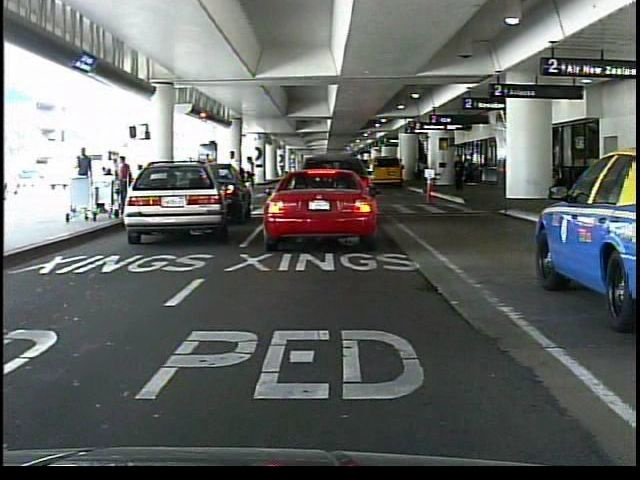person: (225, 146, 244, 221), (75, 146, 96, 211), (202, 151, 219, 210), (298, 152, 316, 204), (453, 154, 467, 192)
